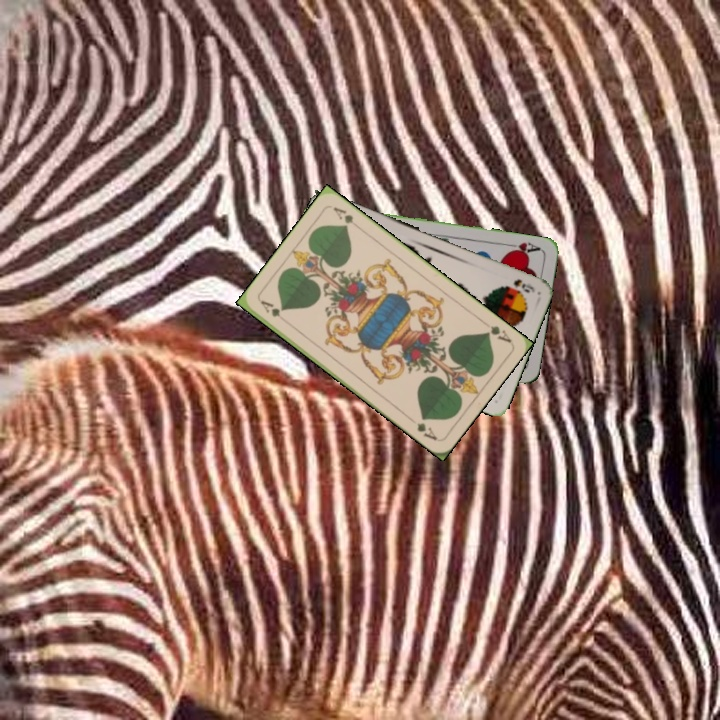GA: (257, 296, 291, 326), (481, 321, 514, 346)
HA: (503, 238, 543, 257)
SO: (509, 275, 537, 295)
